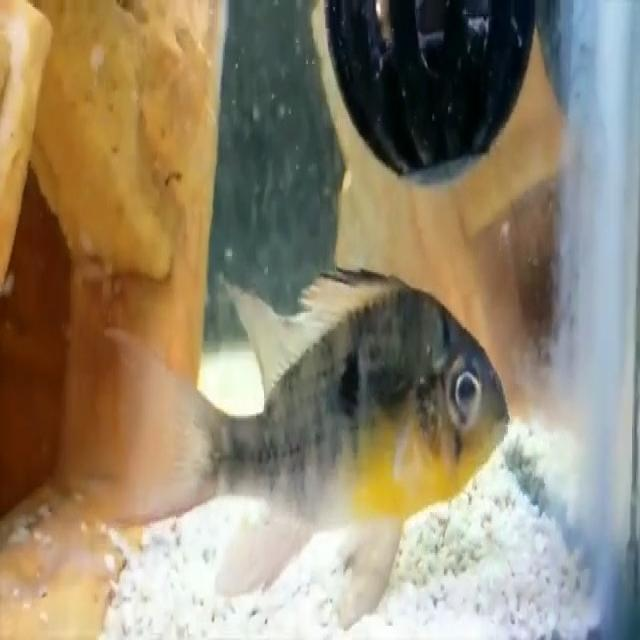fish: (112, 267, 516, 623)
